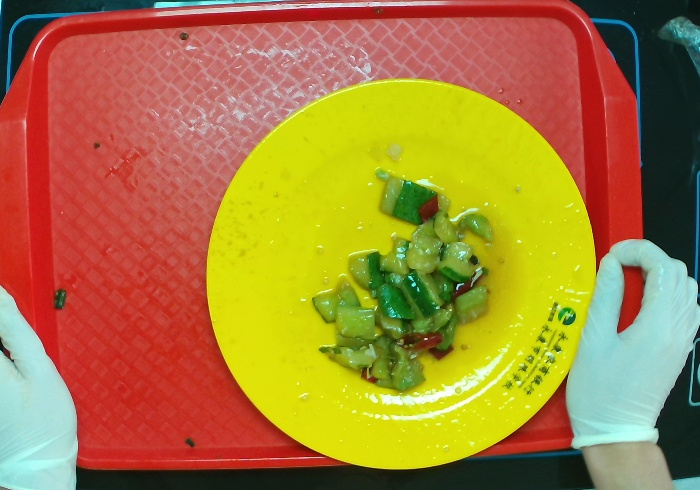YKMZ-Huang_Se_Mian_Pan: (204, 74, 600, 469)
